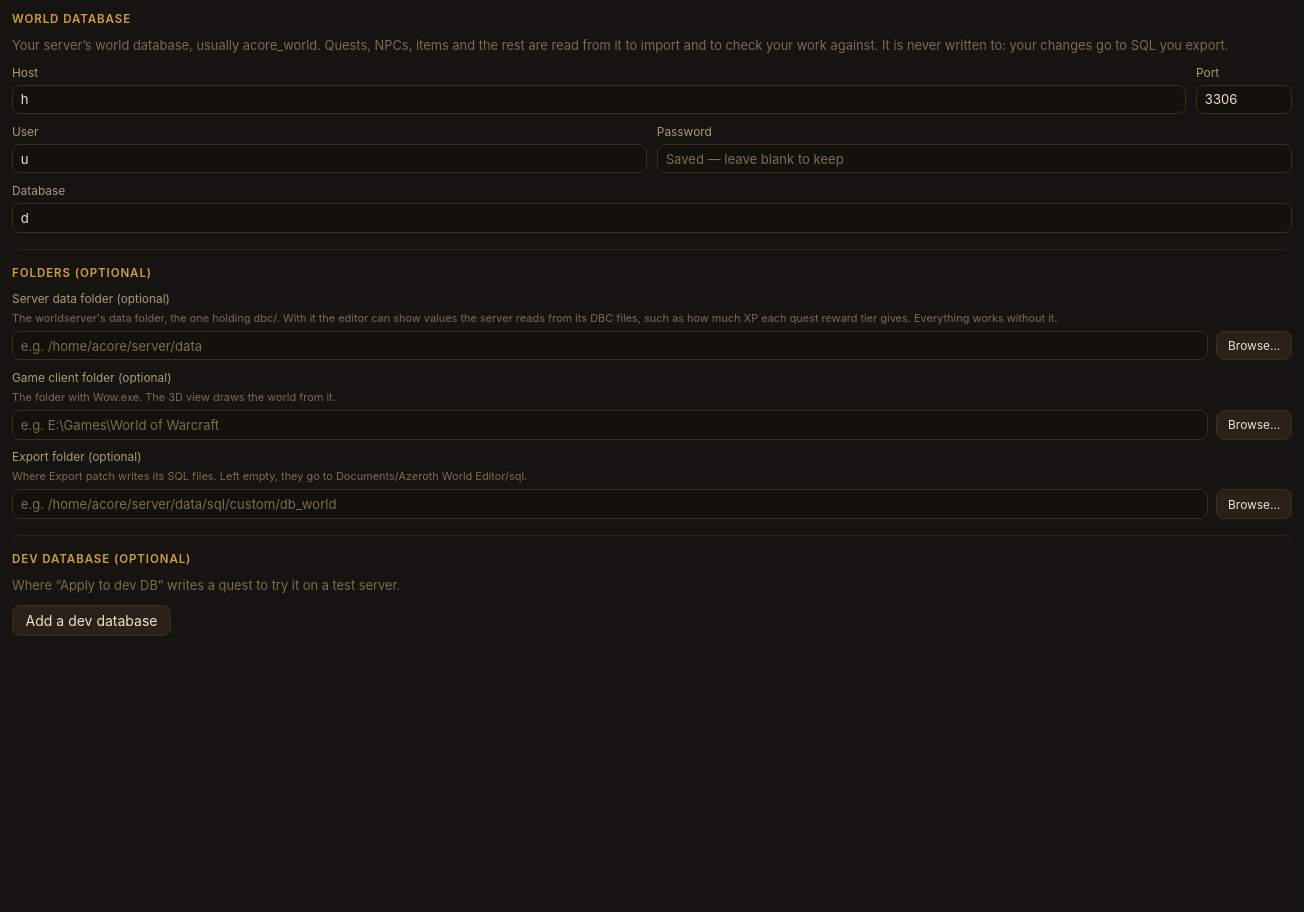
Test: ConnectionFields › edits the export folder, and browses for it
Type "C:/sql" into the field labelled "Export folder (optional)" at (610, 504), box [12, 489, 1208, 519]
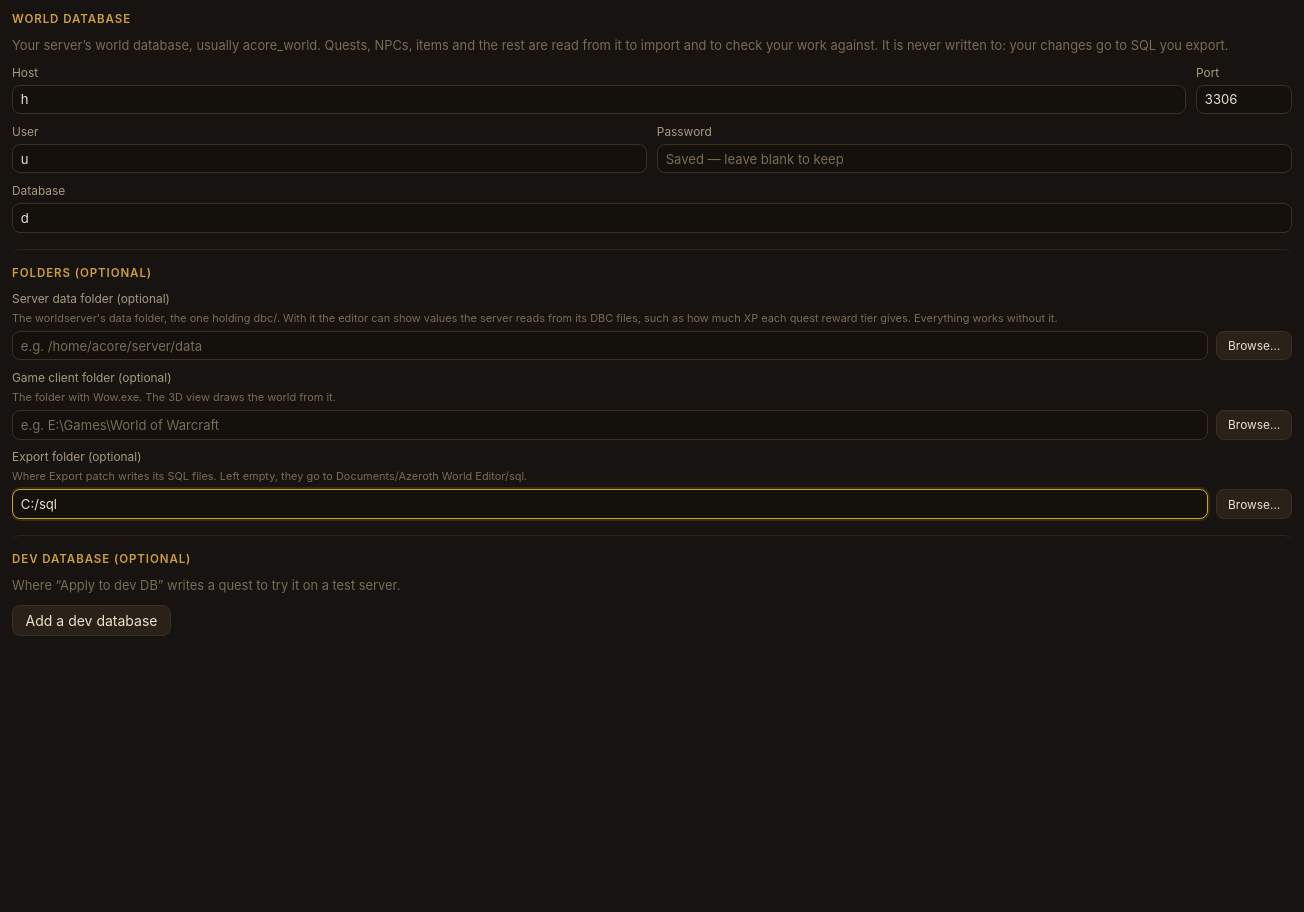
Click the button with aria-label "Browse for the export folder" at (1254, 504), box [1216, 489, 1292, 519]
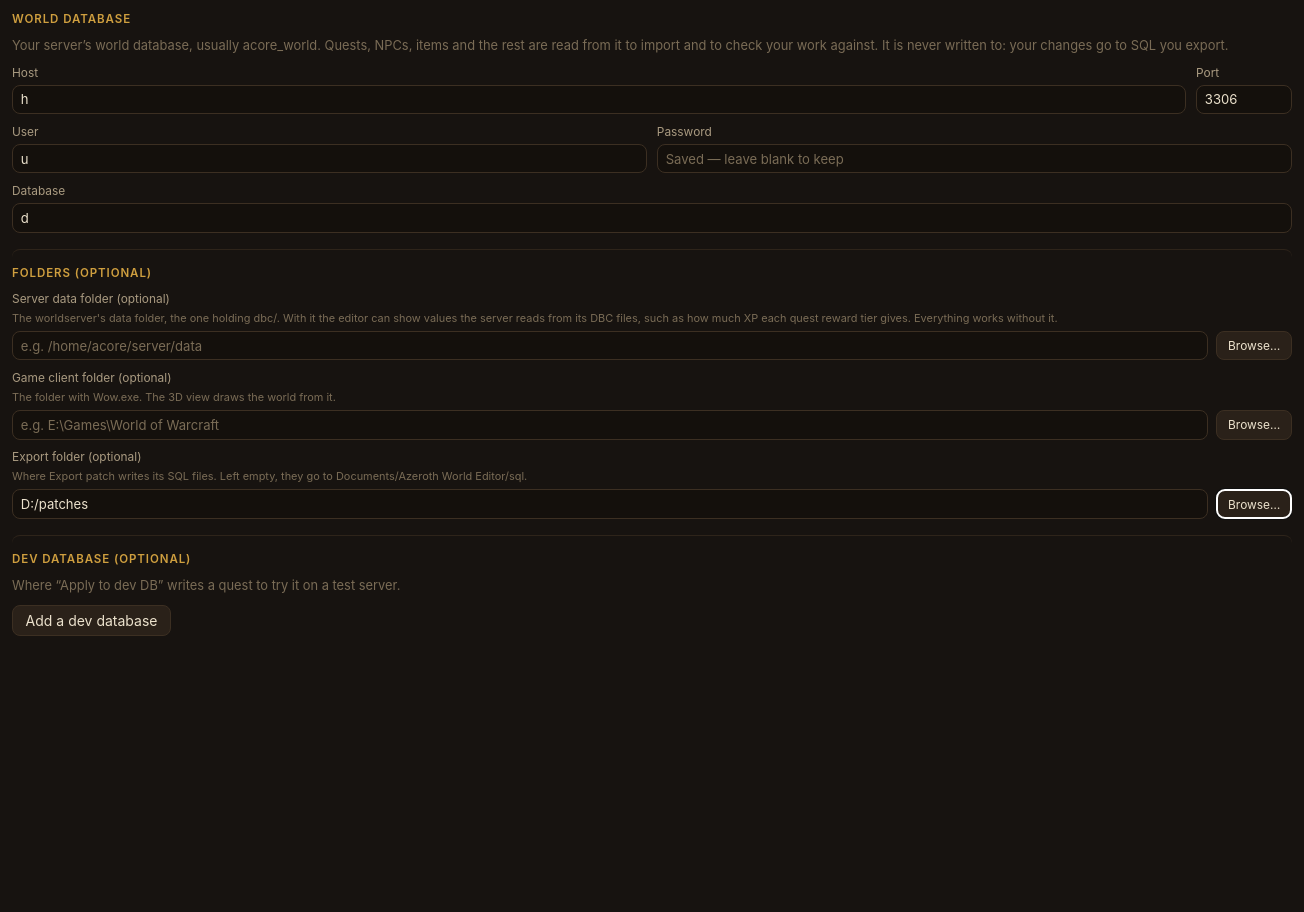
Check: the field labelled "Export folder (optional)" holds "D:/patches", box [12, 489, 1208, 519]
